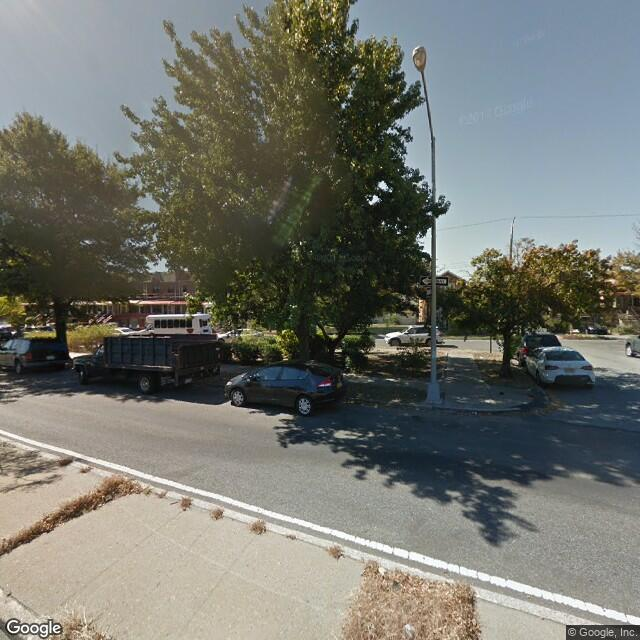litter: (470, 407, 492, 423)
